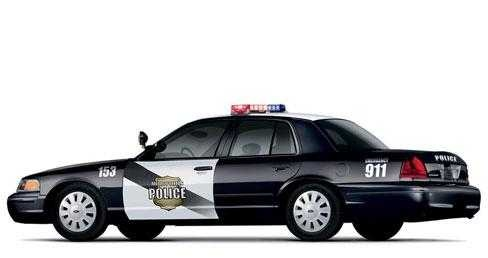Police Car: (19, 94, 488, 258)
